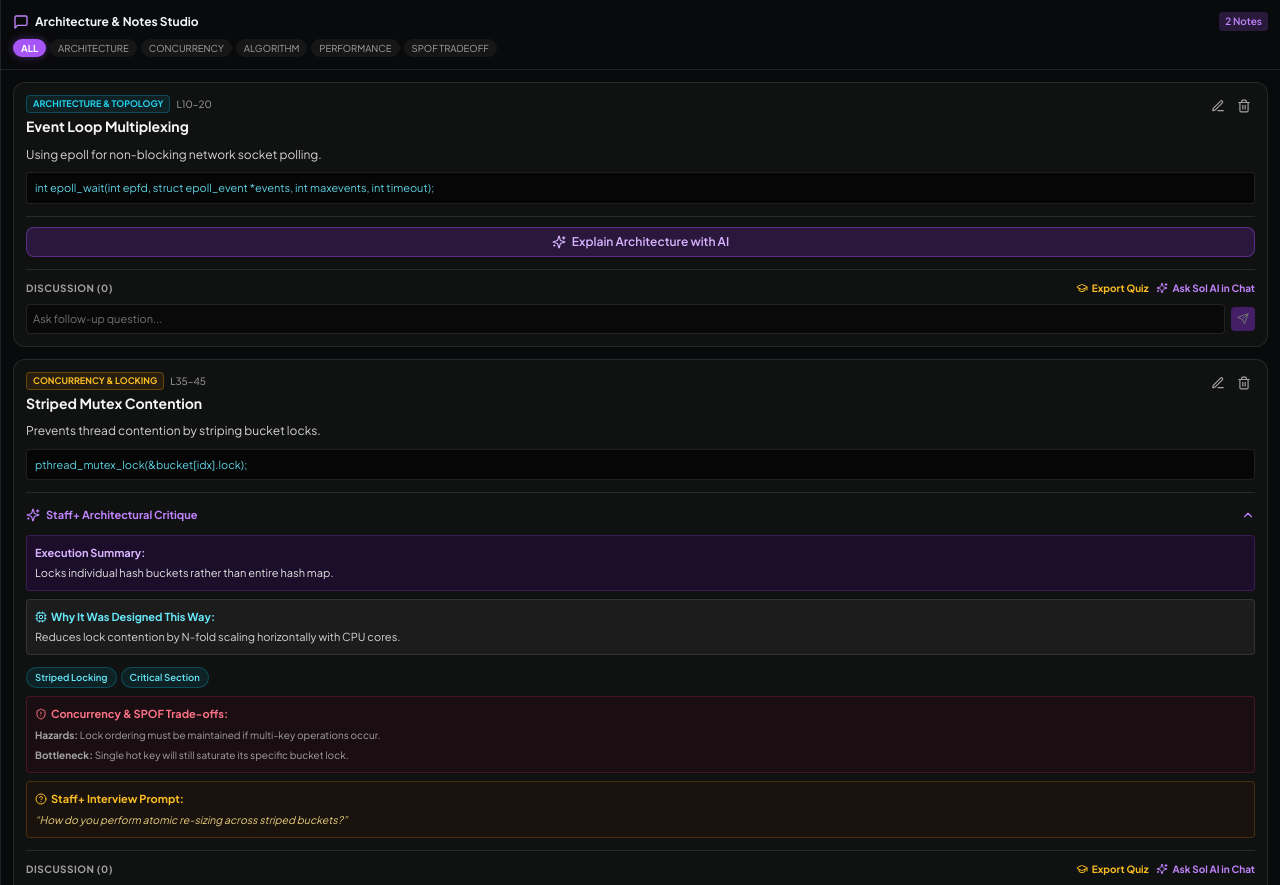
Test case: AnnotationDock › filters annotations by category when category filter pill is clicked
Click CONCURRENCY filter
Click the button with test id "filter-concurrency": (186, 48) 141,39 -> 232,57
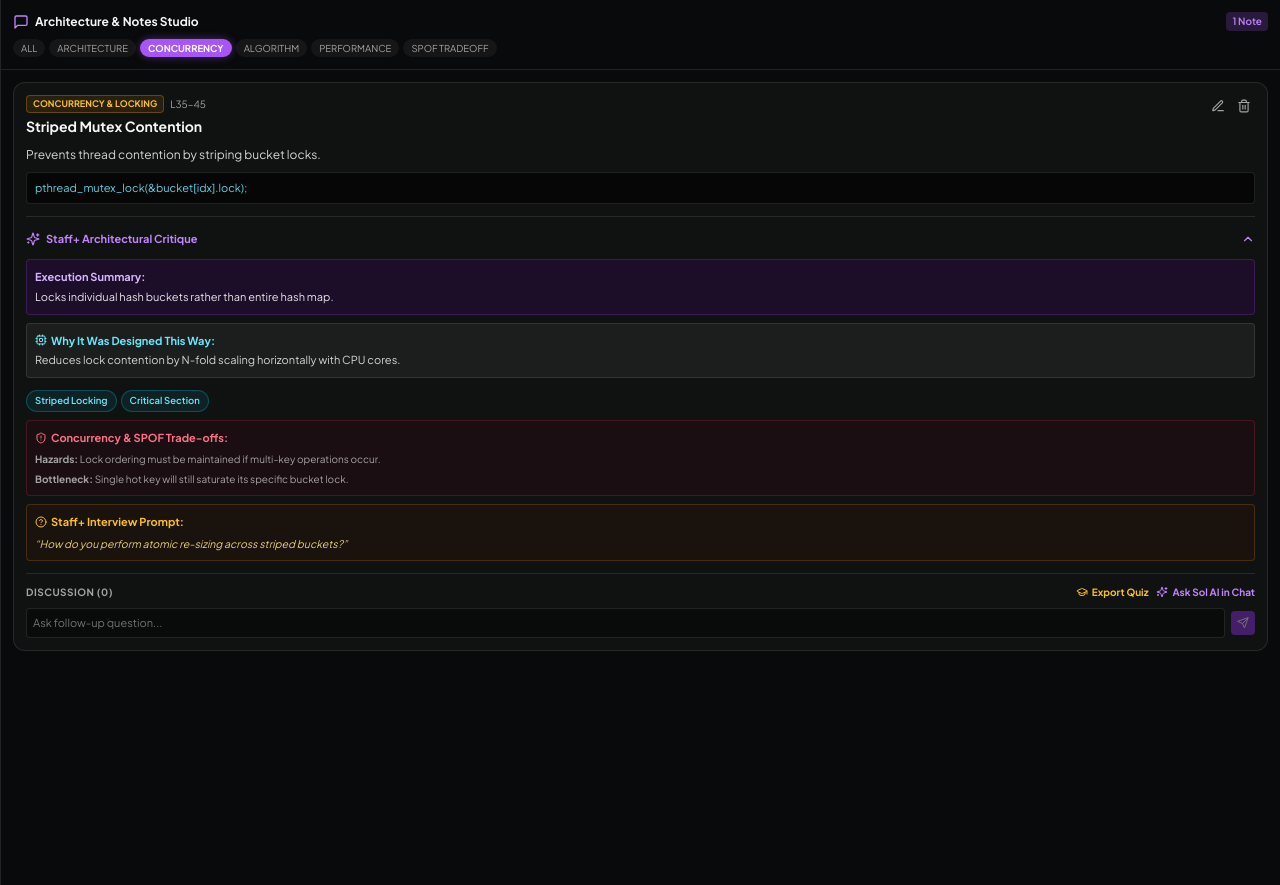
Expected: the heading "Striped Mutex Contention" is shown, 26,117 -> 206,137
Now the heading "Event Loop Multiplexing" is gone
Click ALL filter
Click the button with test id "filter-all": (29, 48) 13,39 -> 45,57
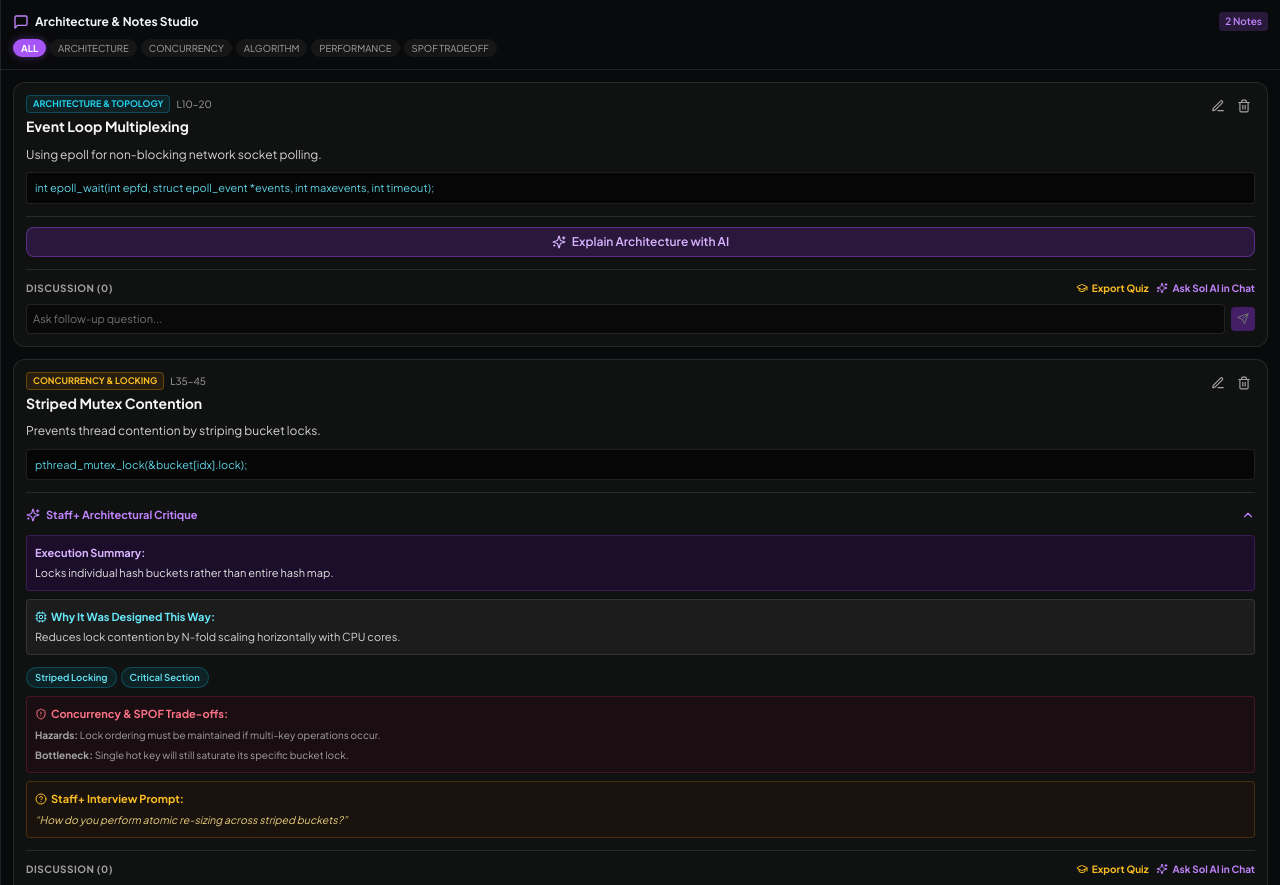
Now the heading "Event Loop Multiplexing" is shown, box 26,117 -> 212,137
